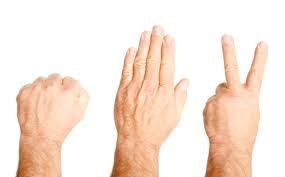paper: (114, 22, 189, 150)
rock: (15, 71, 92, 140)
scissors: (200, 32, 270, 148)
